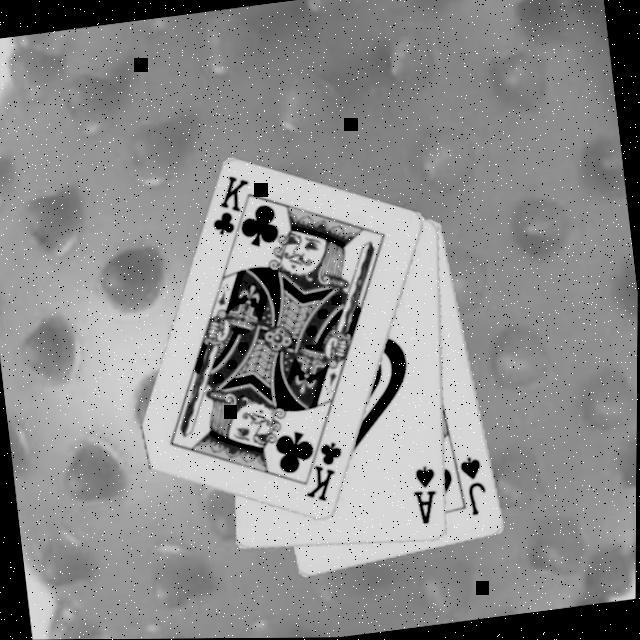AS: (406, 462, 444, 530)
JS: (456, 452, 492, 520)
KC: (203, 171, 260, 253), (294, 428, 351, 508)
